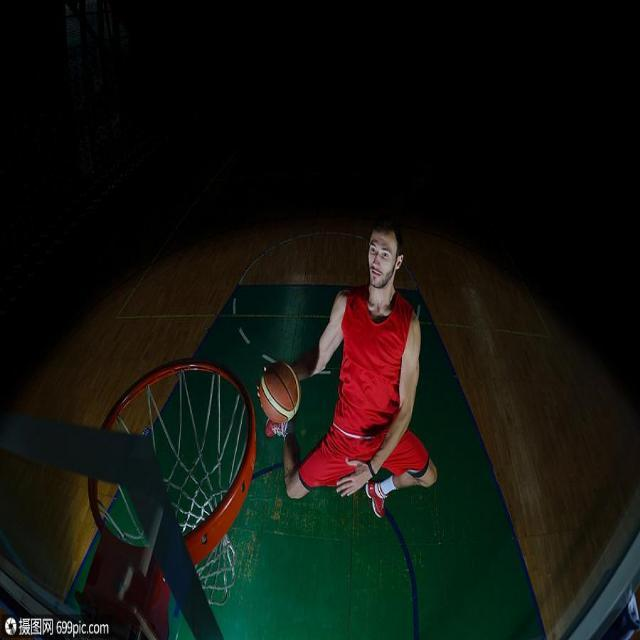rim: (258, 360, 302, 424)
